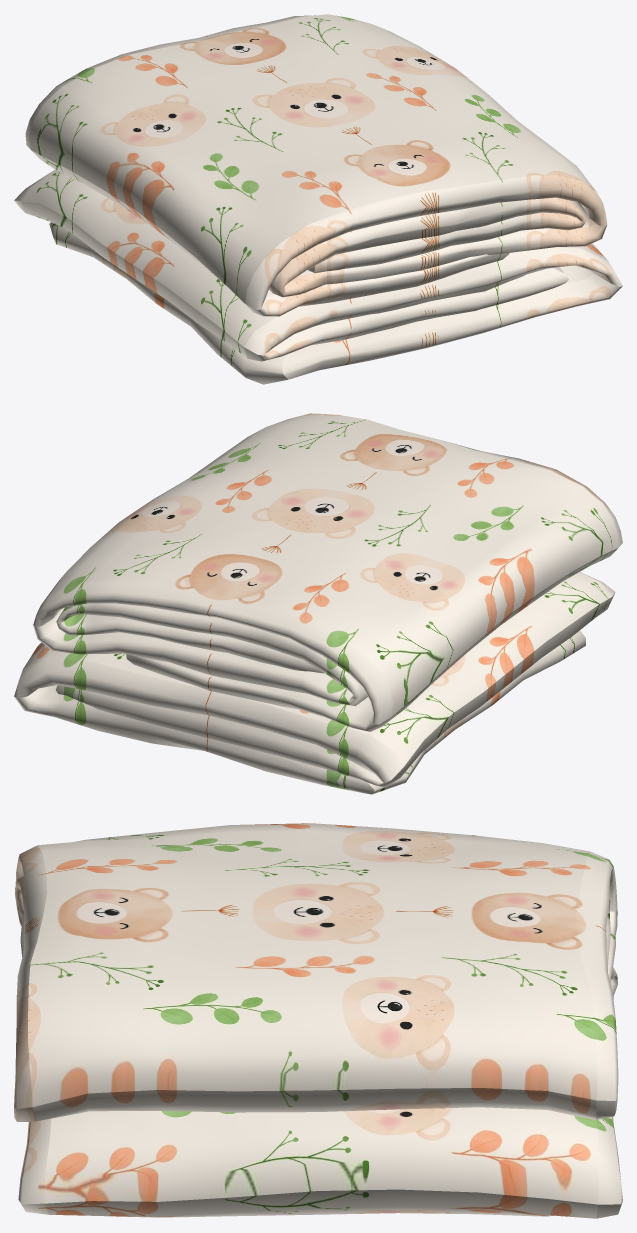
File: Blanket.fbx
The picture shows the model from 3 angles, top to bottom: view 1: azimuth 30°, elevation 25°; view 2: azimuth 150°, elevation 25°; view 3: azimuth 270°, elevation 25°; orthographic projection. The views are drawn at different scales.
Visible parts, largest first — view 1: Towel_2_Towels_0, Towel_Towels_0; view 2: Towel_2_Towels_0, Towel_Towels_0; view 3: Towel_2_Towels_0, Towel_Towels_0.
Part boxes in pixels (<box>): Towel_2_Towels_0: <box>25,14,607,316</box>; Towel_Towels_0: <box>14,169,622,384</box>; Towel_2_Towels_0: <box>33,413,622,731</box>; Towel_Towels_0: <box>14,572,615,794</box>; Towel_2_Towels_0: <box>14,823,618,1121</box>; Towel_Towels_0: <box>18,967,622,1218</box>.
Size of the model in its own units: 14.61 by 6.38 by 15.86.
2 materials, 2 textured.
